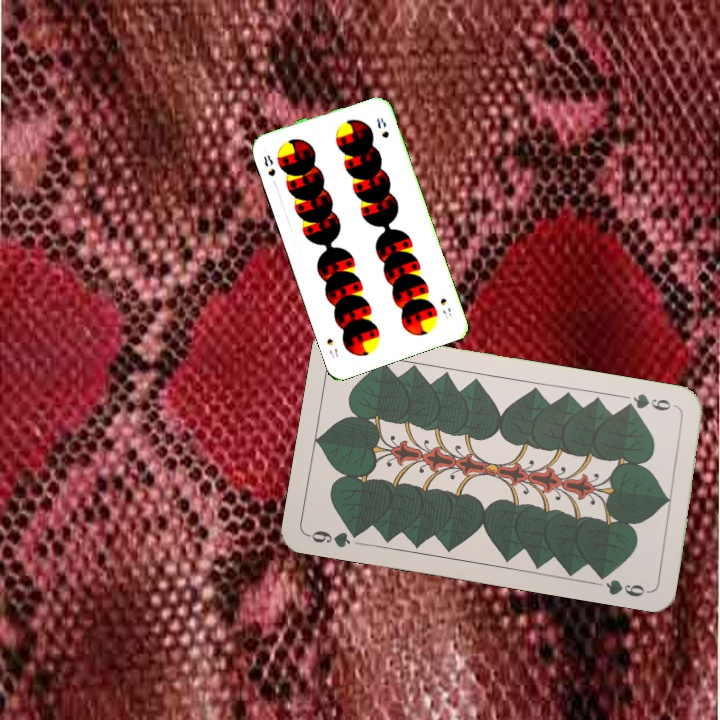G9: (305, 525, 365, 551), (621, 389, 681, 414)
S8: (259, 151, 278, 179), (436, 294, 454, 322)
